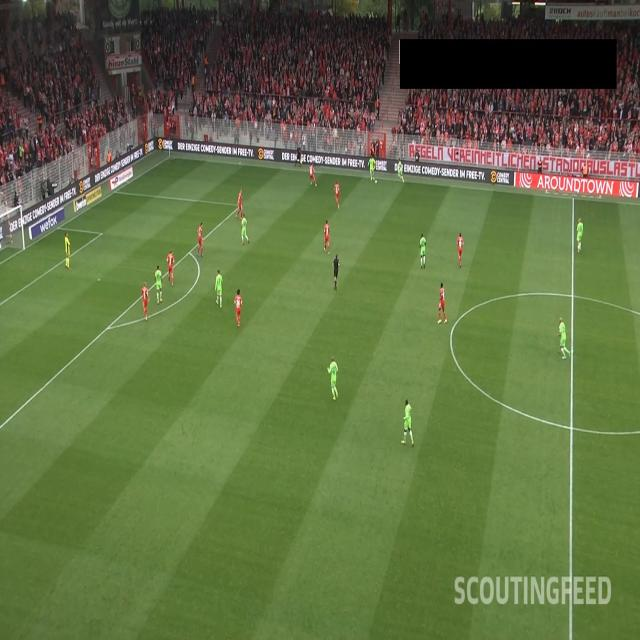ball: (374, 179, 378, 185)
